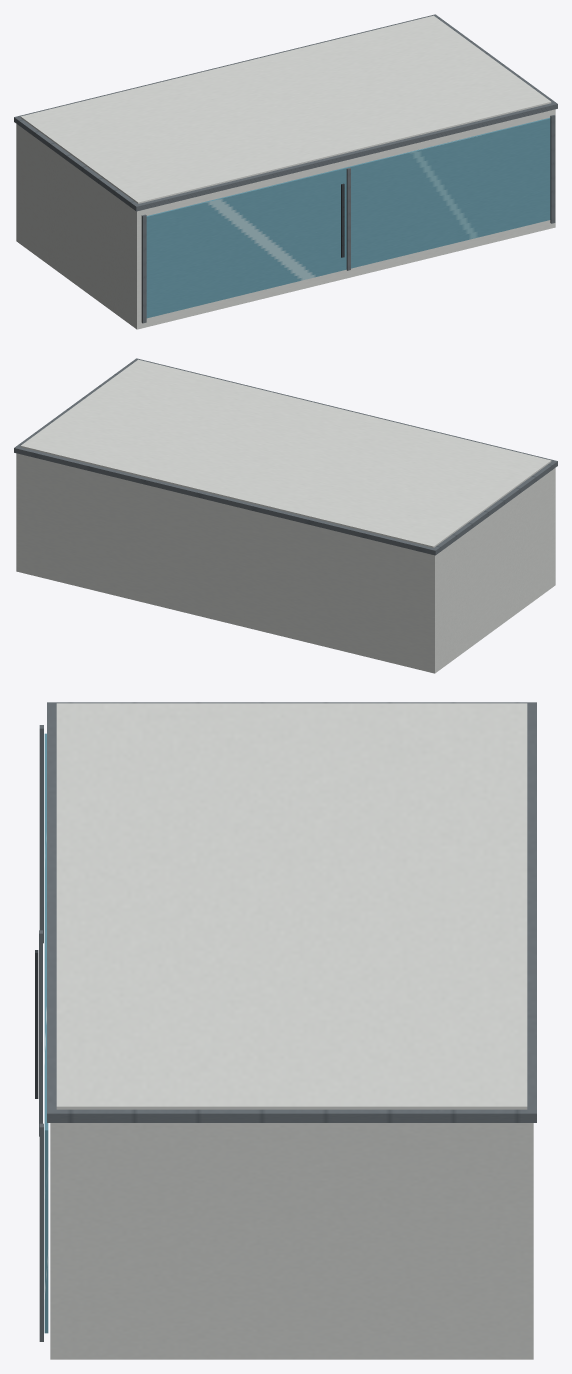
Rendered from Freezer_6x3.obj.
3 renders of one model, top to bottom at view 1: azimuth 30°, elevation 25°; view 2: azimuth 150°, elevation 25°; view 3: azimuth 270°, elevation 25°, orthographic. The views are drawn at different scales.
Parts seen in each view (by area): view 1: Freezer_6x3; view 2: Freezer_6x3; view 3: Freezer_6x3.
Part boxes in pixels (x1,y1,x2,y2): Freezer_6x3: [14, 14, 557, 329]; Freezer_6x3: [14, 358, 557, 673]; Freezer_6x3: [35, 702, 536, 1359].
Size of the model in its own units: 6.04 by 1.72 by 3.12.
Materials: 4 (4 with a texture image).
